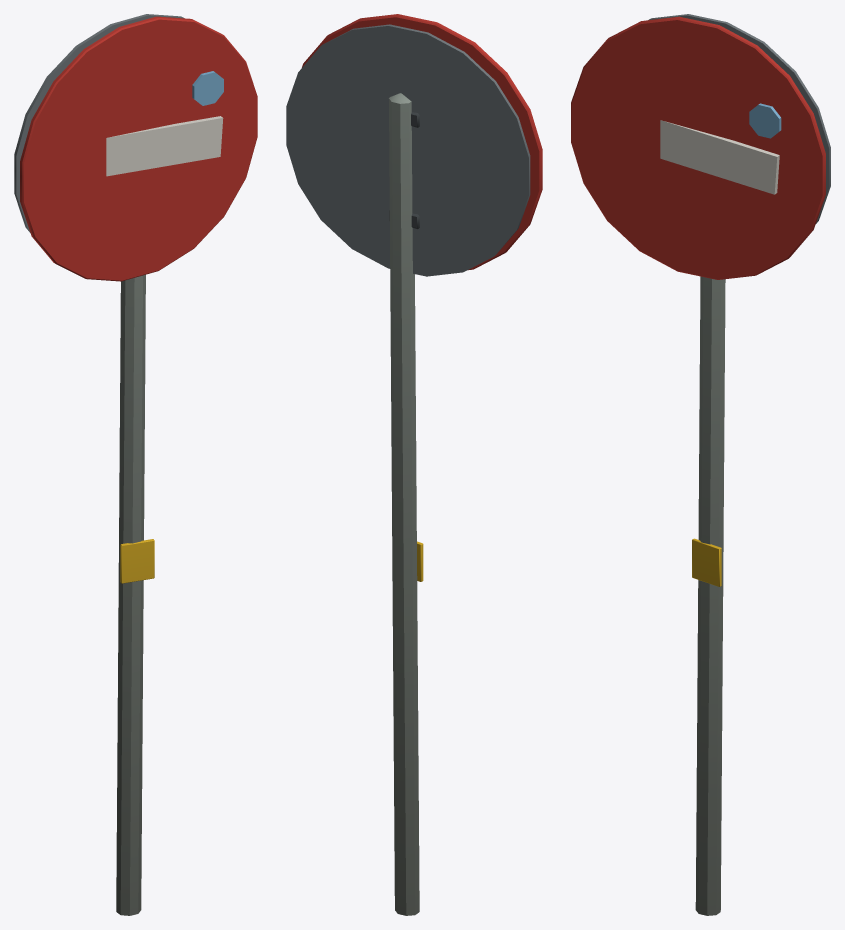
The model's file is 15_panneau_signalisation.fbx.
The picture shows the model from 3 angles, left to right: view 1: azimuth 30°, elevation 25°; view 2: azimuth 150°, elevation 25°; view 3: azimuth 330°, elevation 25°; orthographic projection.
Parts seen in each view (by area): view 1: Panneau, Poteau; view 2: Panneau, Poteau; view 3: Panneau, Poteau.
Boxes of the visible parts, box(x1,y1,x2,y2) form: Panneau: box(14, 14, 257, 281); Poteau: box(116, 274, 154, 915); Panneau: box(286, 14, 542, 276); Poteau: box(389, 93, 423, 915); Panneau: box(571, 14, 830, 279); Poteau: box(692, 276, 725, 915).
Size of the model in its own units: 0.56 by 1.96 by 0.084.
Materials: 1 (1 with a texture image).
